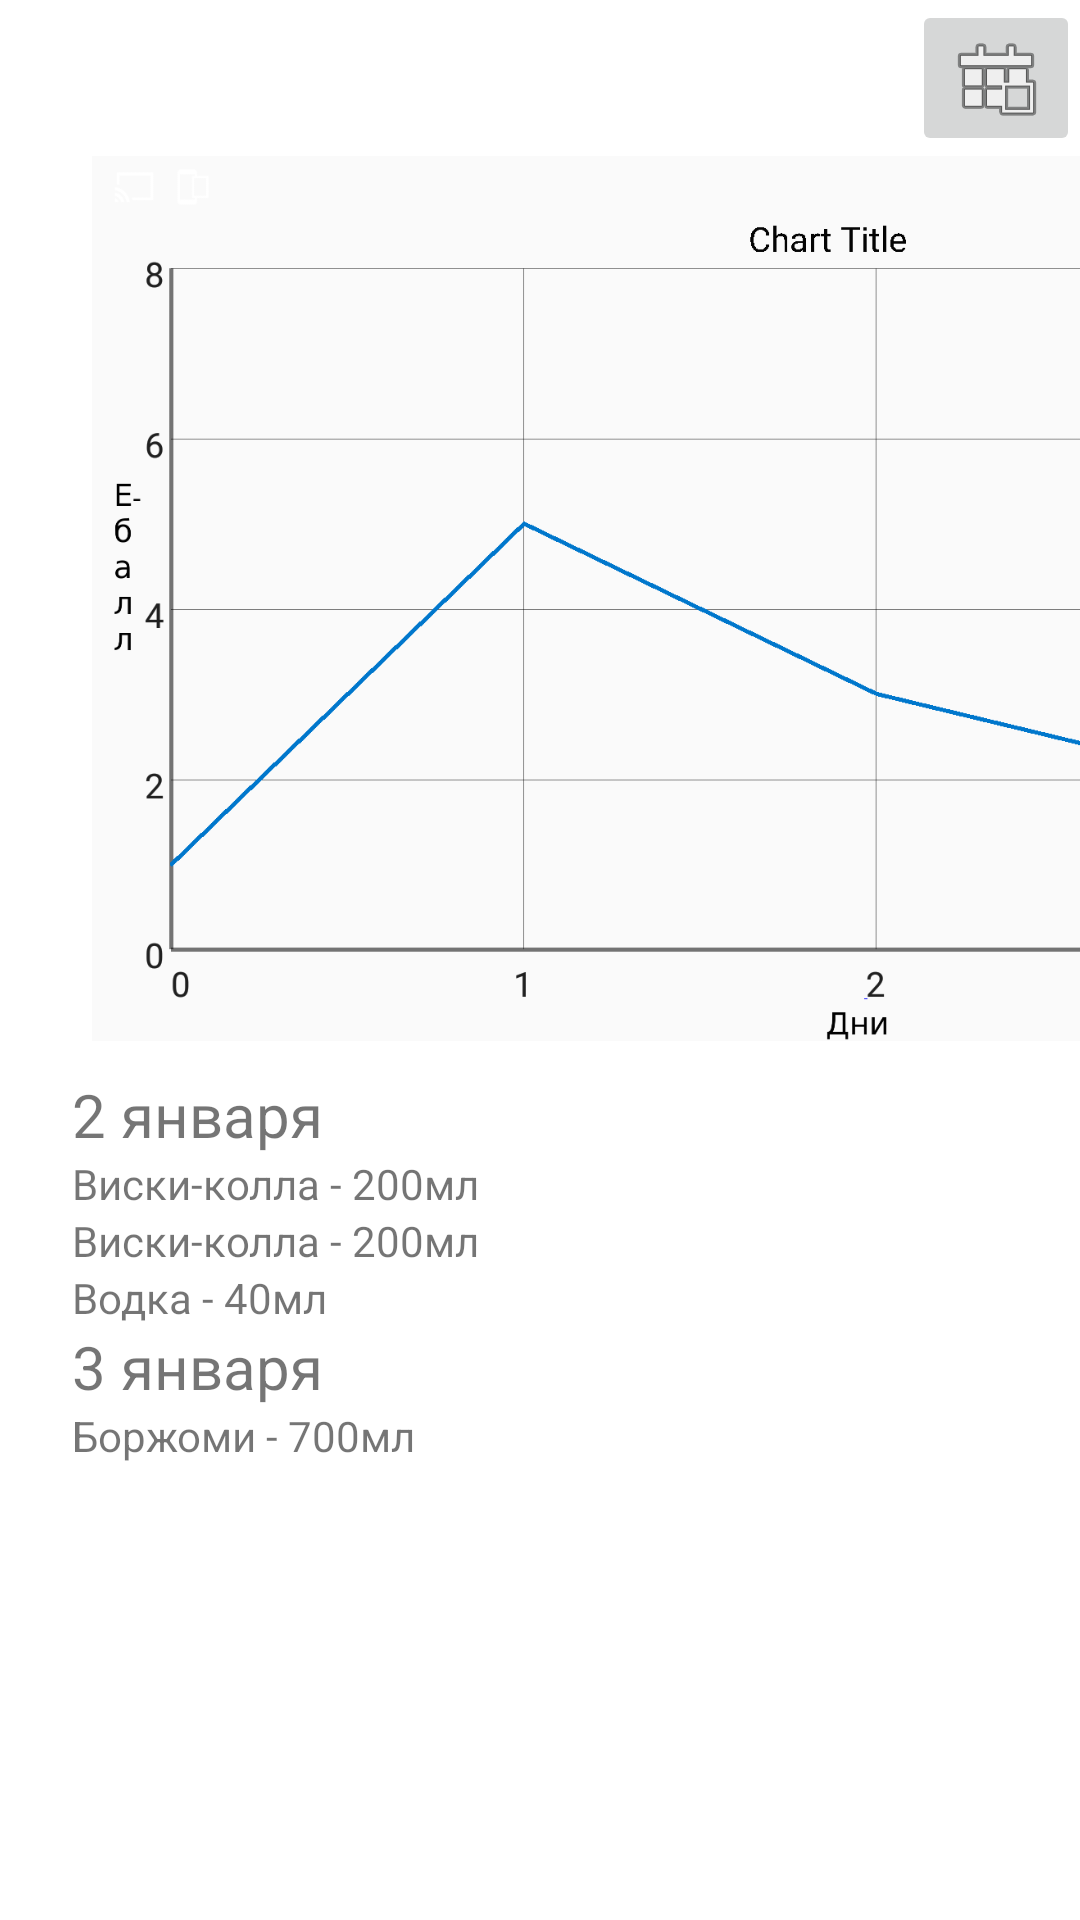

Icon click points for this 1080×1920 phone screenshot, format (x,y):
today: (996,78)
